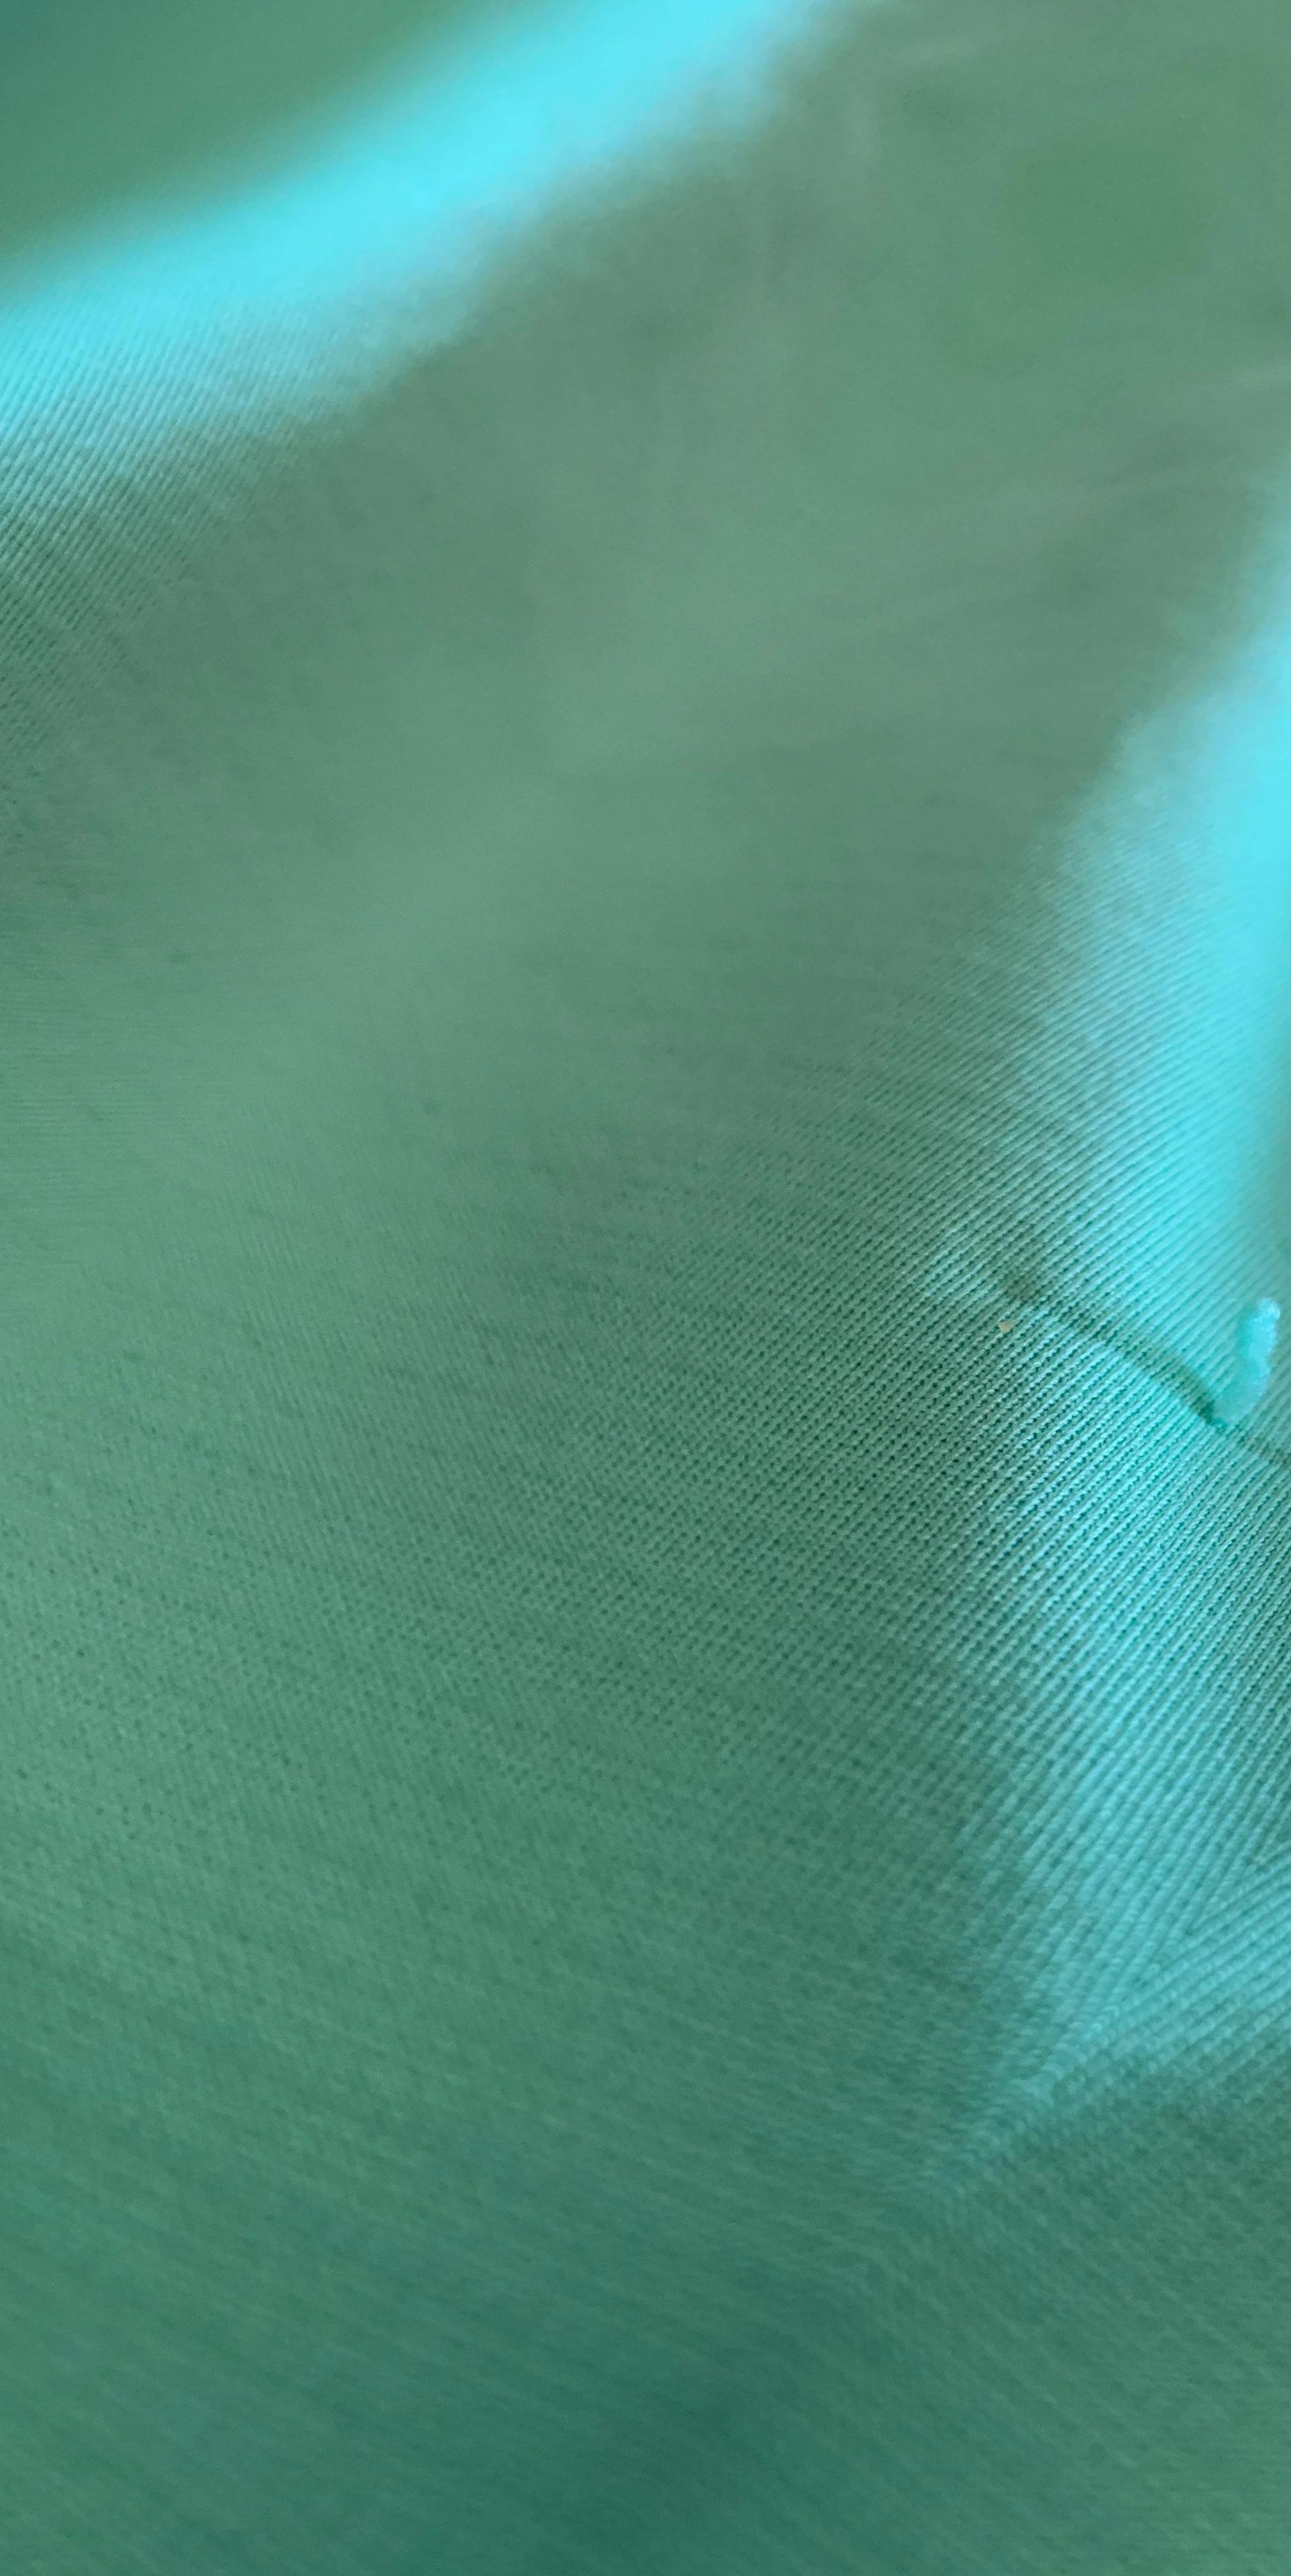snag: (1181, 1251, 1289, 1516)
